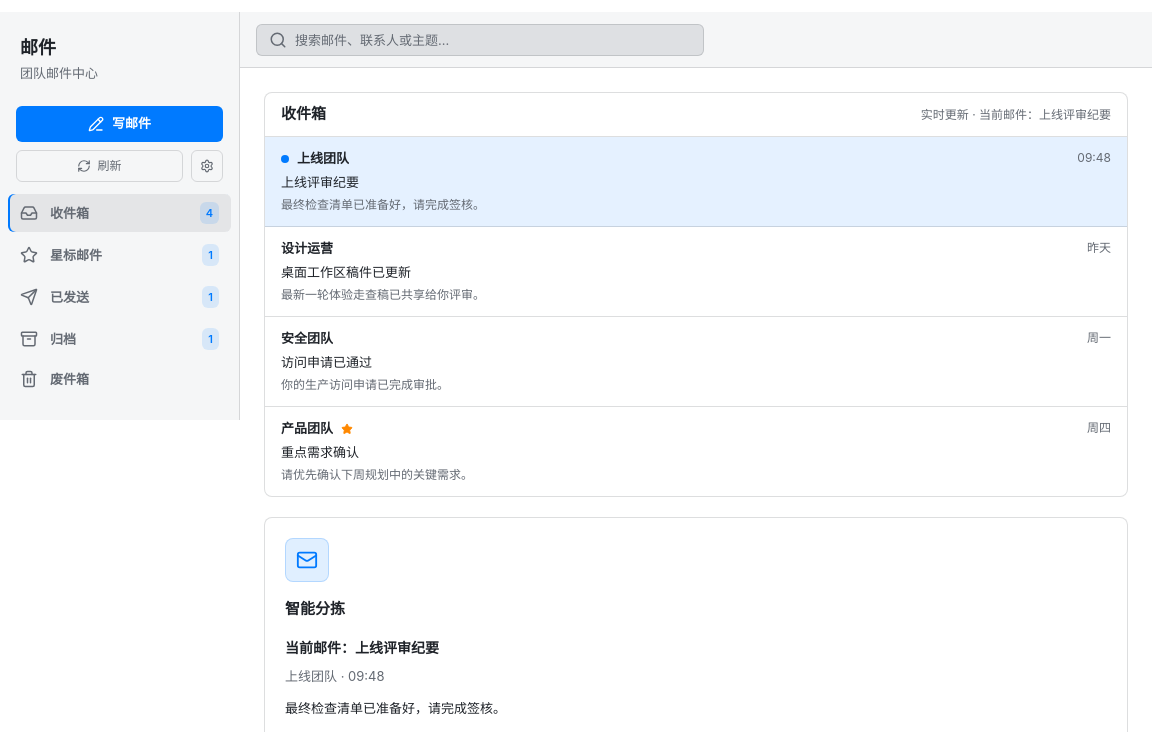
Test: workspace secondary pages › keeps mail reply drafts scoped to the selected message
Click the button with test id "email-message-mail-1" at (323, 158), box [265, 137, 1127, 227]
(page scrolled)
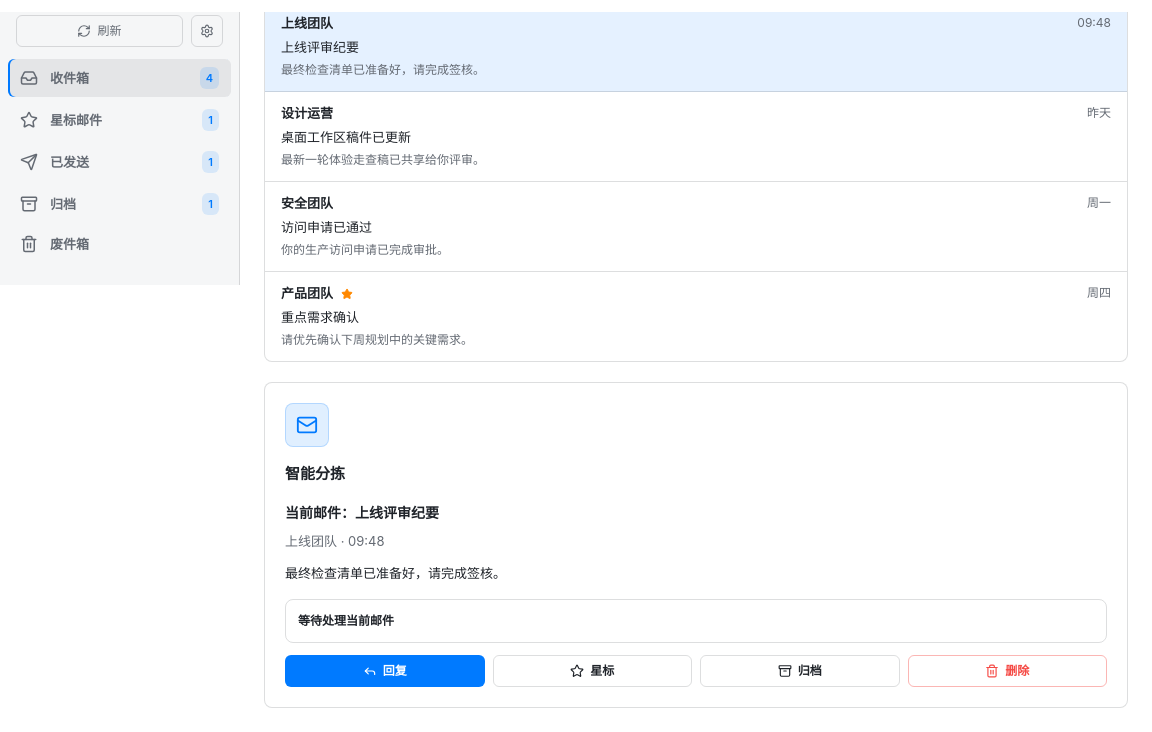
Click the button with test id "email-reply-selected" at (385, 670), box [285, 654, 484, 686]
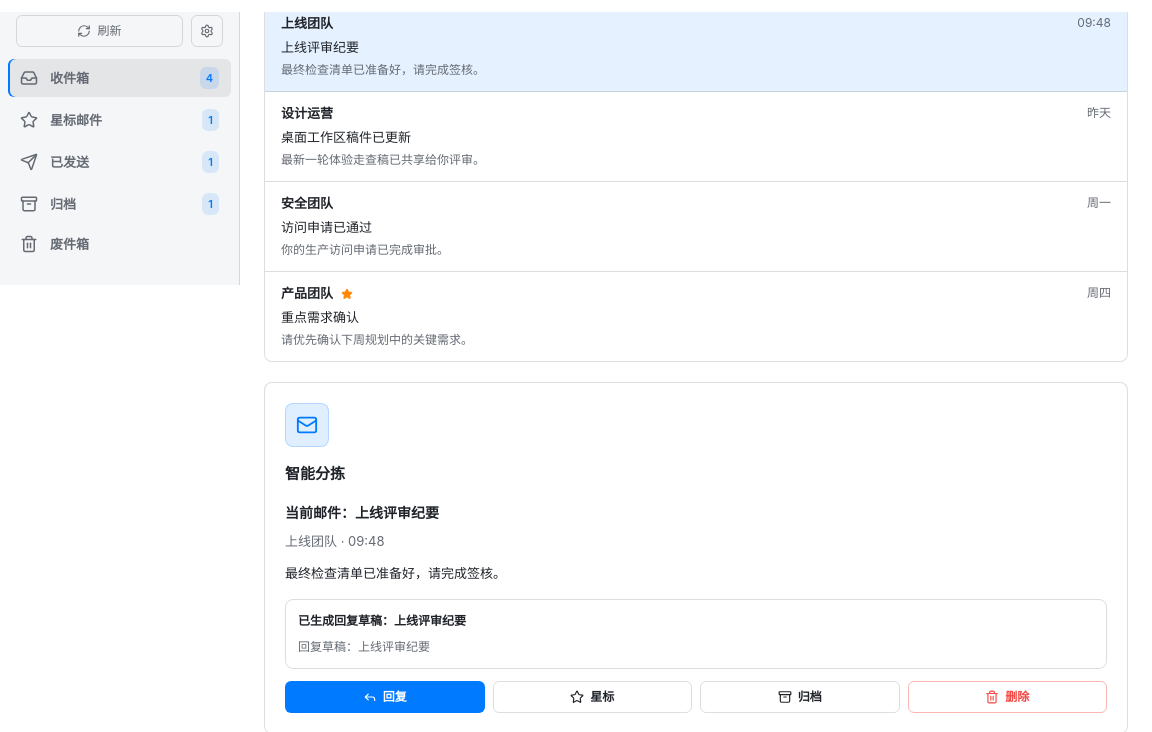
Now the text "回复草稿：上线评审纪要" is shown, box [298, 612, 466, 628]
Click the button with test id "email-message-mail-2" at (307, 113), box [265, 92, 1127, 182]
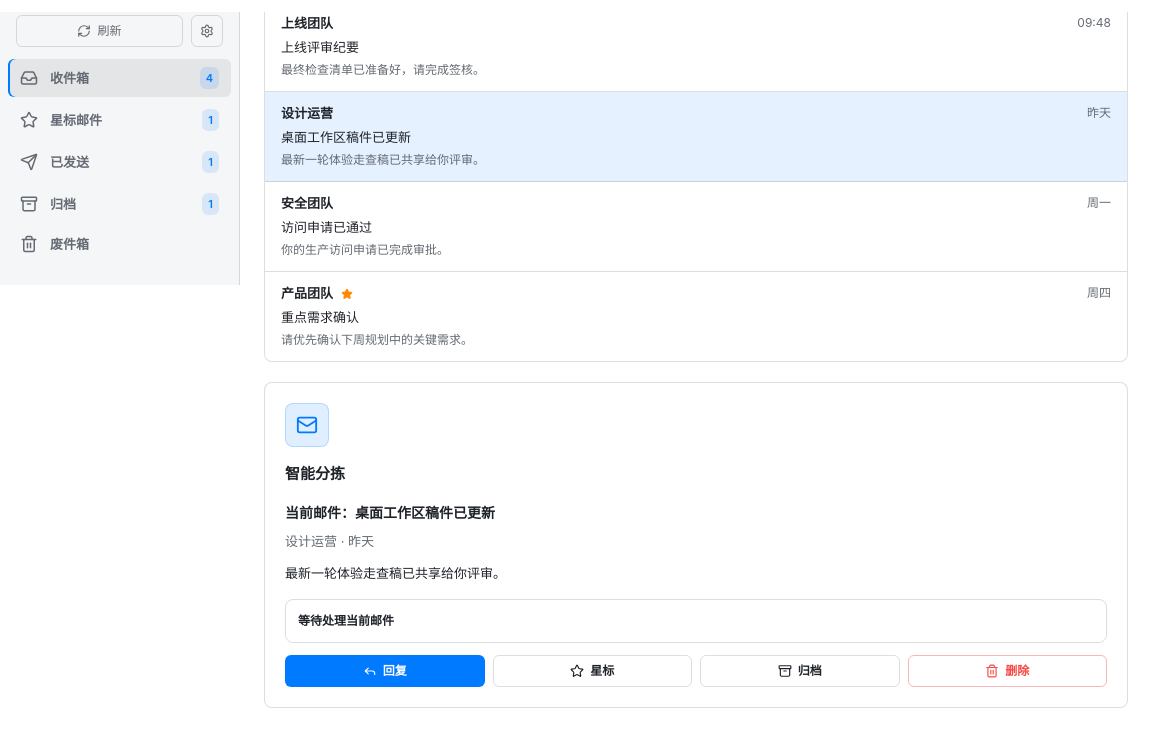
Now the text "回复草稿：上线评审纪要" is gone
Now the text "等待处理当前邮件" is shown, box [298, 612, 394, 628]
